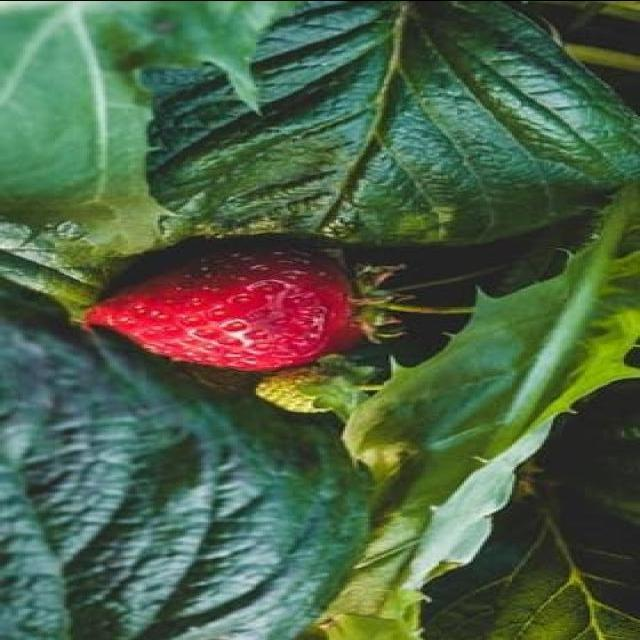ripe: (87, 244, 360, 371)
unripe: (254, 370, 350, 411)
